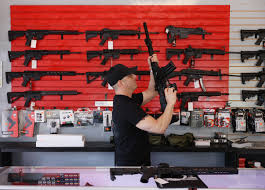gun: (5, 28, 85, 49)
